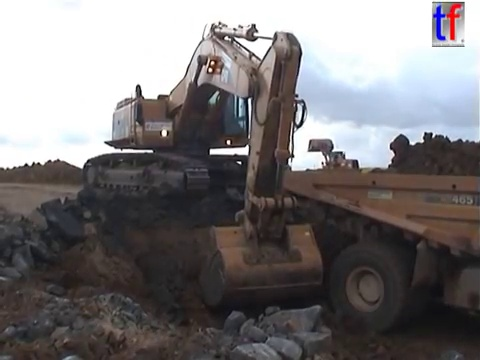excavator: (79, 18, 328, 315)
truck: (261, 166, 480, 337), (305, 136, 363, 181)
